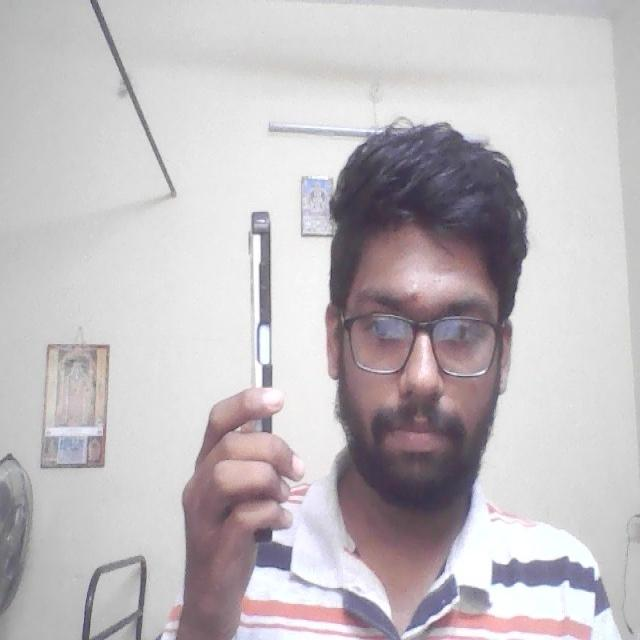Mobile: (238, 200, 279, 398)
